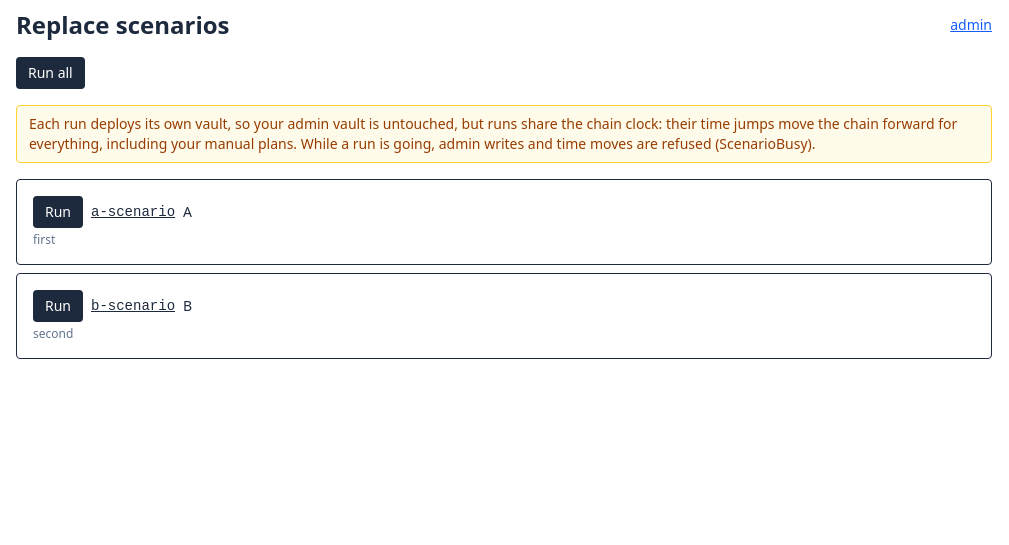
Test: ScenariosPage › a failing step shows expected vs actual; passing steps show their time and events
What coordinates should you click on to do the following:
click the 1st button "Run"
I would click on:
 (58, 212)
Its box is [33, 196, 83, 228].
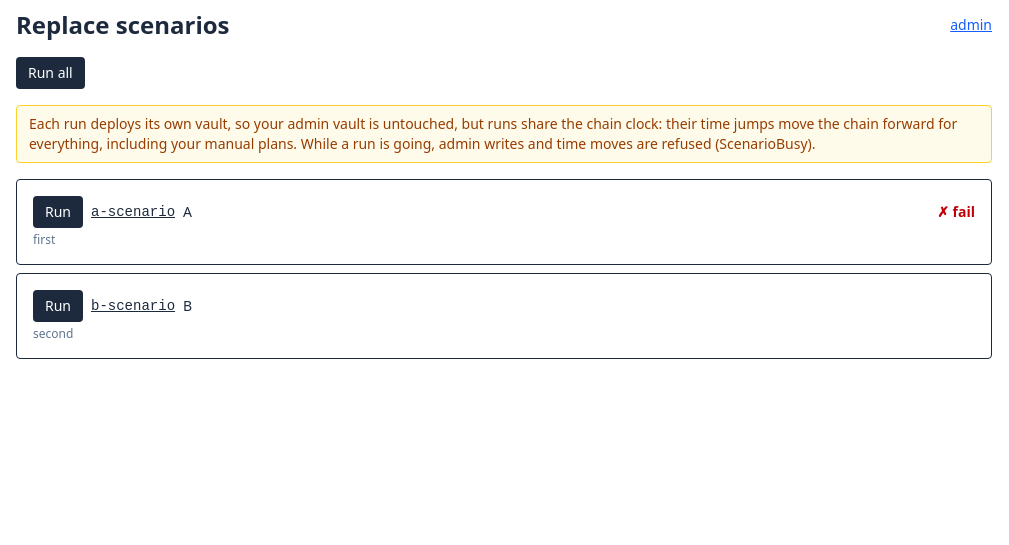
Expected: the text "✗ fail" is shown, [937, 202, 975, 222]
What coordinates should you click on to do the following:
click the button "a-scenario"
I would click on:
 (133, 212)
Its box is [91, 202, 175, 222].
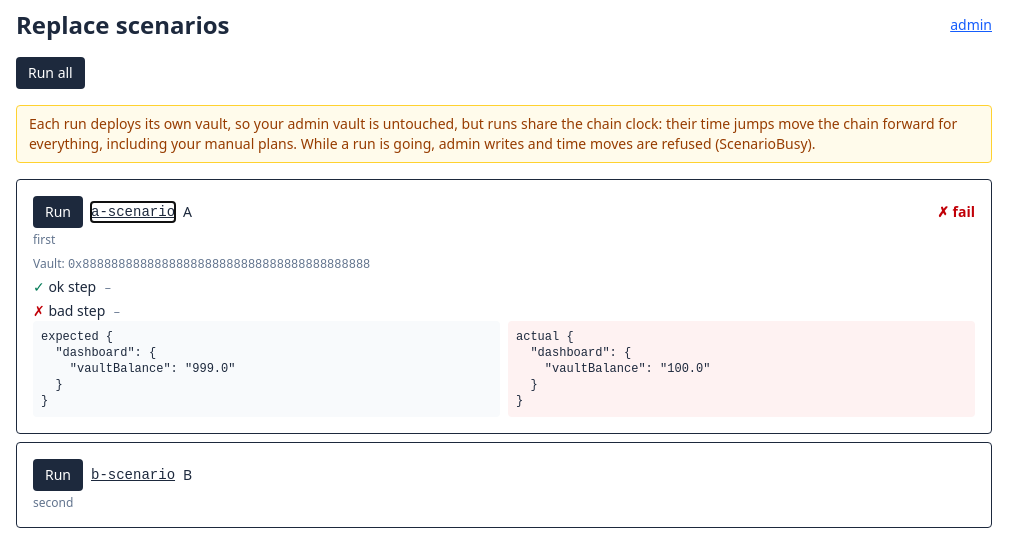
Expected: the text "expected { \"dashboard\": { \"vaultBalance\": \"999.0\" } }" shows "\"vaultBalance\": \"999.0\"", [41, 330, 235, 408]
Expected: the text "actual { \"dashboard\": { \"vaultBalance\": \"100.0\" } }" shows "\"vaultBalance\": \"100.0\"", [516, 330, 710, 408]
Expected: the text "expected { \"dashboard\": { \"vaultBalance\": \"999.0\" } }" is shown 2 times, [33, 321, 500, 417]; [508, 321, 975, 417]
